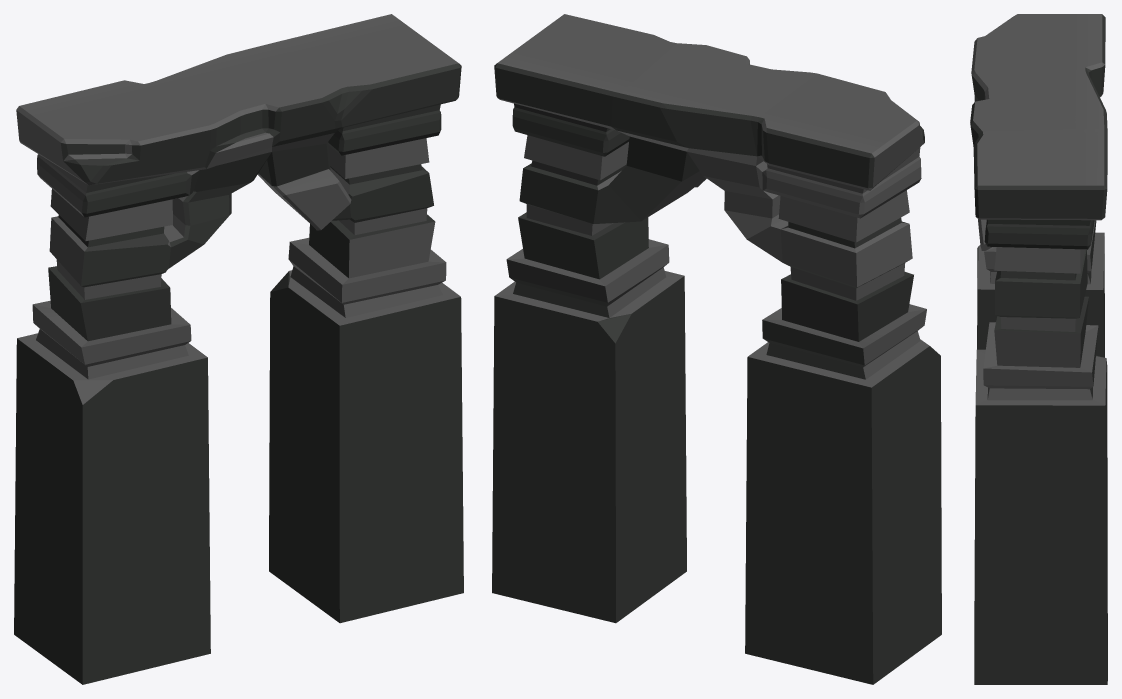
Rendered from stone arc.fbx.
The picture shows the model from 3 angles, left to right: view 1: azimuth 30°, elevation 25°; view 2: azimuth 150°, elevation 25°; view 3: azimuth 270°, elevation 25°; orthographic projection. The views are drawn at different scales.
Parts seen in each view (by area): view 1: stone ard big_LOD0; view 2: stone ard big_LOD0; view 3: stone ard big_LOD0.
Boxes of the visible parts, x1,y1,x2,y2 form: stone ard big_LOD0: (14, 14, 463, 684); stone ard big_LOD0: (492, 14, 941, 684); stone ard big_LOD0: (970, 14, 1107, 684).
Size of what is drawn, in the model's own units: 6 by 7.99 by 2.
